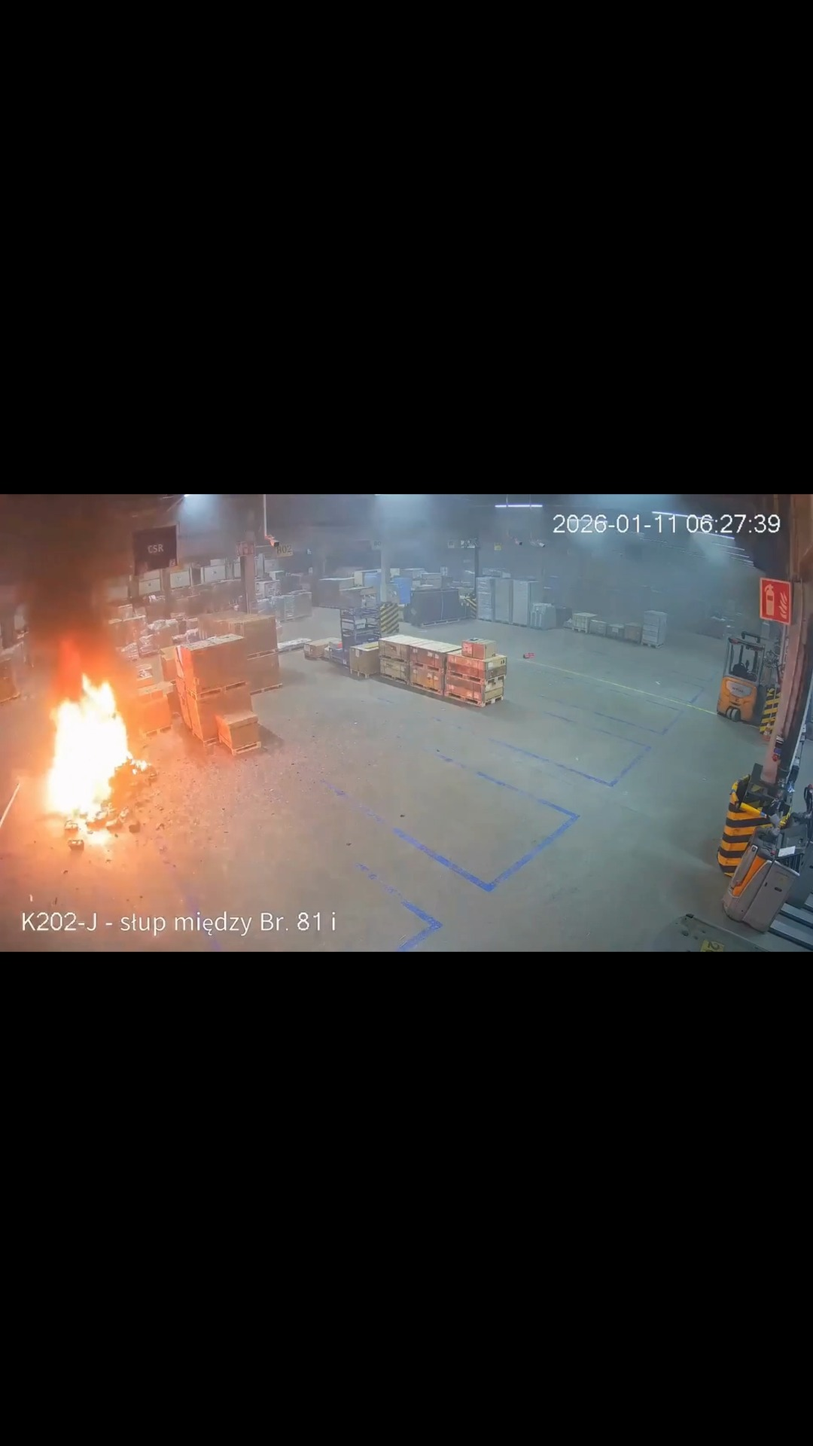fire: (43, 649, 146, 847)
smoke: (1, 496, 145, 701)
